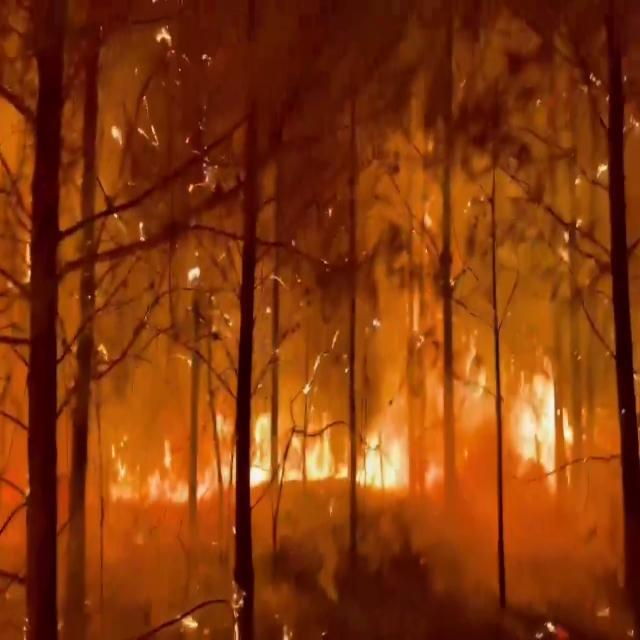Fire: (116, 387, 422, 503), (504, 353, 576, 488)
Smoke: (96, 0, 624, 444)
